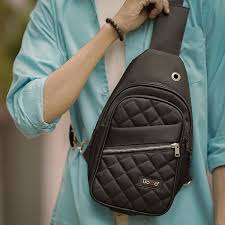bag: (93, 29, 194, 220)
